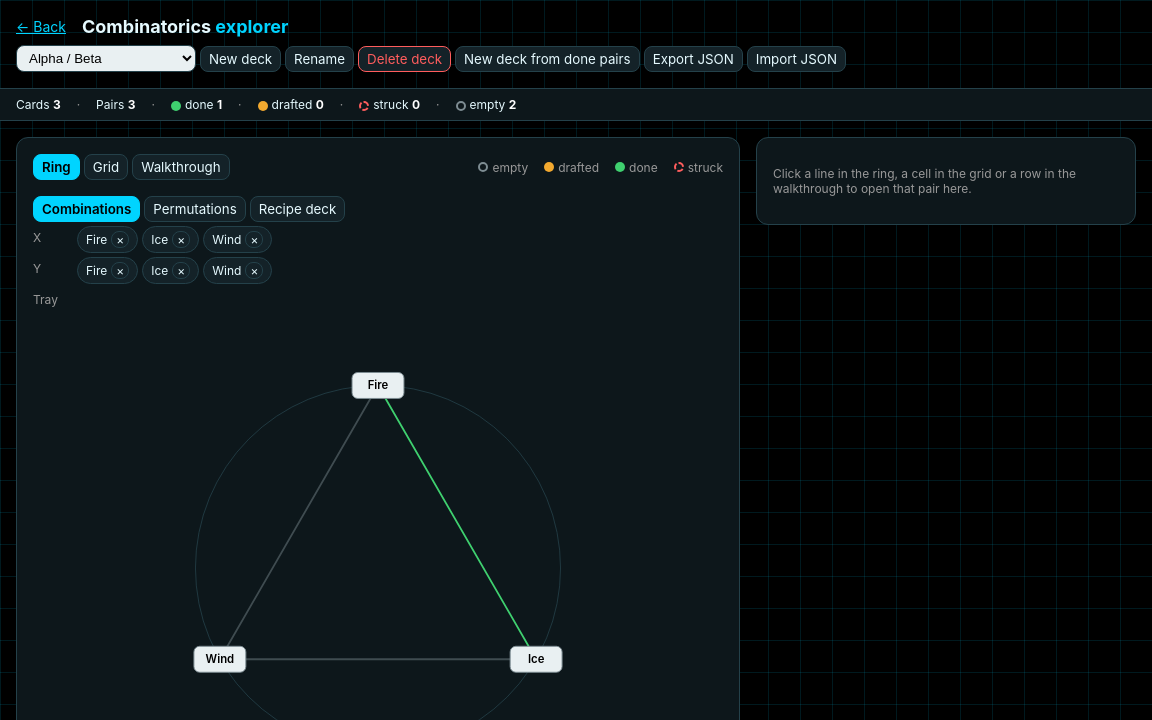
Test: CombinationsPage promote › shows a failed promote in an alert
This screenshot has width=1152, height=720.
Click the button "New deck from done pairs".
click(547, 58)  # box left=455, top=46, right=640, bottom=72
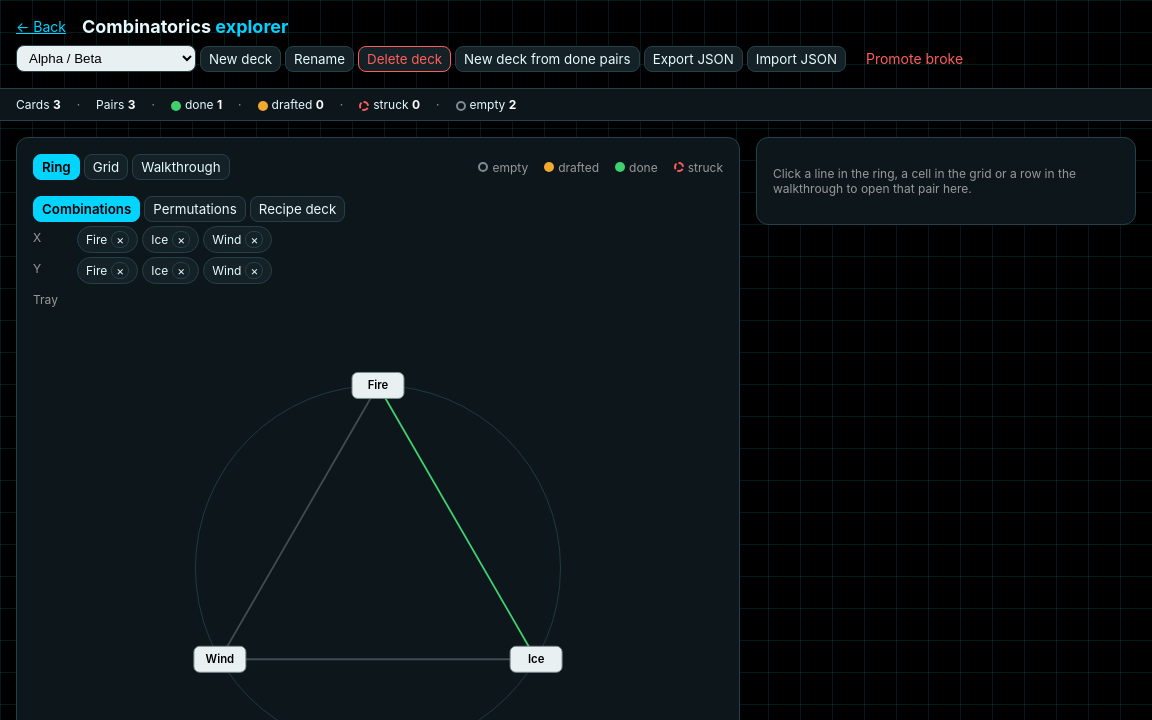
Now the message reads "Promote broke", box left=866, top=50, right=963, bottom=67
Now the number of messages is 1, box left=866, top=50, right=963, bottom=67
